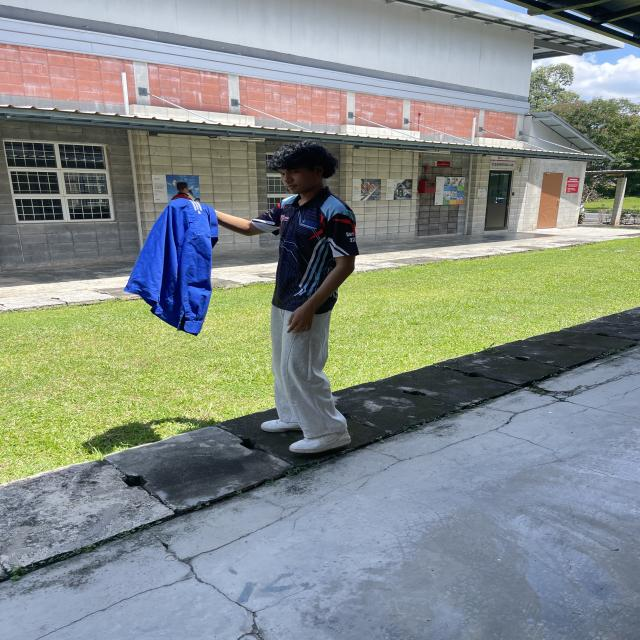person_without_labcoat: (125, 141, 358, 453)
